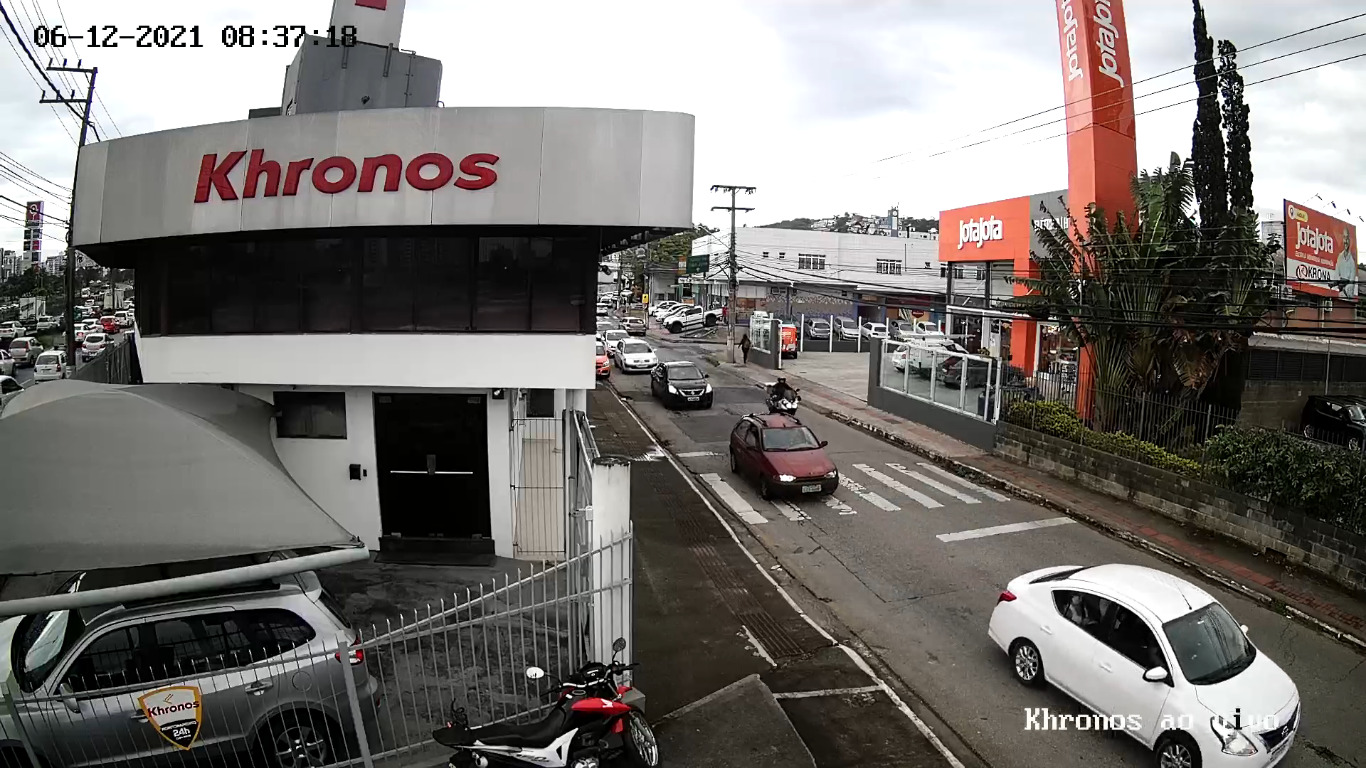car: (987, 562, 1300, 768), (729, 413, 839, 501)
